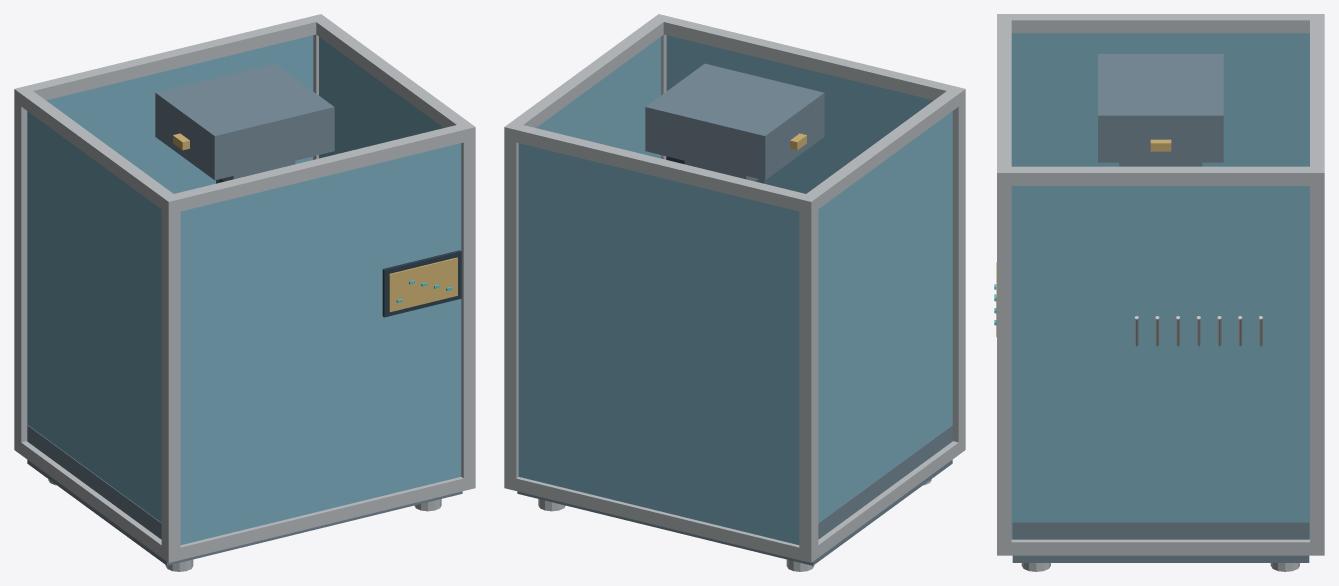
The model's file is 50_L79_BondSeamInspectionCamera.glb.
3 renders of one model, left to right at view 1: azimuth 30°, elevation 25°; view 2: azimuth 150°, elevation 25°; view 3: azimuth 270°, elevation 25°, orthographic. The views are drawn at different scales.
Visible parts, largest first — view 1: BondSeamInspectionCamera_Node_0030, BondSeamInspectionCamera_Node_0031, BondSeamInspectionCamera_Node_0066, BondSeamInspectionCamera_Node_0029, BondSeamInspectionCamera_Node_0018, BondSeamInspectionCamera_Node_0032, BondSeamInspectionCamera_Node_0026, BondSeamInspectionCamera_Node_0025, BondSeamInspectionCamera_Node_0020, BondSeamInspectionCamera_Node_0017, BondSeamInspectionCamera_Node_0022, BondSeamInspectionCamera_Node_0000 (+5 smaller); view 2: BondSeamInspectionCamera_Node_0029, BondSeamInspectionCamera_Node_0031, BondSeamInspectionCamera_Node_0066, BondSeamInspectionCamera_Node_0030, BondSeamInspectionCamera_Node_0017, BondSeamInspectionCamera_Node_0032, BondSeamInspectionCamera_Node_0025, BondSeamInspectionCamera_Node_0026, BondSeamInspectionCamera_Node_0019, BondSeamInspectionCamera_Node_0018, BondSeamInspectionCamera_Node_0021, BondSeamInspectionCamera_Node_0000 (+3 smaller); view 3: BondSeamInspectionCamera_Node_0032, BondSeamInspectionCamera_Node_0031, BondSeamInspectionCamera_Node_0066, BondSeamInspectionCamera_Node_0000, BondSeamInspectionCamera_Node_0028, BondSeamInspectionCamera_Node_0027, BondSeamInspectionCamera_Node_0019, BondSeamInspectionCamera_Node_0020, BondSeamInspectionCamera_Node_0024, BondSeamInspectionCamera_Node_0025, BondSeamInspectionCamera_Node_0026.
Part boxes in pixels (bbox=[...]): BondSeamInspectionCamera_Node_0030: bbox=[180, 143, 461, 544]; BondSeamInspectionCamera_Node_0031: bbox=[27, 111, 161, 522]; BondSeamInspectionCamera_Node_0066: bbox=[155, 63, 334, 180]; BondSeamInspectionCamera_Node_0029: bbox=[46, 35, 313, 193]; BondSeamInspectionCamera_Node_0018: bbox=[161, 194, 180, 562]; BondSeamInspectionCamera_Node_0032: bbox=[319, 37, 443, 158]; BondSeamInspectionCamera_Node_0026: bbox=[161, 122, 475, 213]; BondSeamInspectionCamera_Node_0025: bbox=[14, 14, 326, 104]; BondSeamInspectionCamera_Node_0020: bbox=[457, 122, 475, 490]; BondSeamInspectionCamera_Node_0017: bbox=[14, 86, 32, 454]; BondSeamInspectionCamera_Node_0022: bbox=[161, 476, 475, 561]; BondSeamInspectionCamera_Node_0000: bbox=[27, 425, 462, 565]; BondSeamInspectionCamera_Node_0029: bbox=[518, 143, 799, 544]; BondSeamInspectionCamera_Node_0031: bbox=[818, 111, 952, 522]; BondSeamInspectionCamera_Node_0066: bbox=[645, 63, 824, 180]; BondSeamInspectionCamera_Node_0030: bbox=[666, 35, 933, 193]; BondSeamInspectionCamera_Node_0017: bbox=[799, 194, 818, 562]; BondSeamInspectionCamera_Node_0032: bbox=[536, 37, 660, 158]; BondSeamInspectionCamera_Node_0025: bbox=[504, 122, 817, 213]; BondSeamInspectionCamera_Node_0026: bbox=[653, 14, 964, 105]; BondSeamInspectionCamera_Node_0019: bbox=[504, 122, 522, 490]; BondSeamInspectionCamera_Node_0018: bbox=[947, 86, 965, 454]; BondSeamInspectionCamera_Node_0021: bbox=[504, 476, 818, 562]; BondSeamInspectionCamera_Node_0000: bbox=[517, 425, 952, 565]; BondSeamInspectionCamera_Node_0032: bbox=[1011, 186, 1309, 539]; BondSeamInspectionCamera_Node_0031: bbox=[1011, 33, 1309, 166]; BondSeamInspectionCamera_Node_0066: bbox=[1098, 54, 1223, 162]; BondSeamInspectionCamera_Node_0000: bbox=[1012, 522, 1309, 562]; BondSeamInspectionCamera_Node_0028: bbox=[997, 166, 1324, 185]; BondSeamInspectionCamera_Node_0027: bbox=[998, 14, 1323, 33]; BondSeamInspectionCamera_Node_0019: bbox=[1310, 166, 1324, 555]; BondSeamInspectionCamera_Node_0020: bbox=[997, 166, 1011, 555]; BondSeamInspectionCamera_Node_0024: bbox=[997, 539, 1323, 555]; BondSeamInspectionCamera_Node_0025: bbox=[1310, 14, 1324, 185]; BondSeamInspectionCamera_Node_0026: bbox=[997, 14, 1011, 185].
Bounding box in the file's own units: 2.3 × 2.67 × 1.92.
